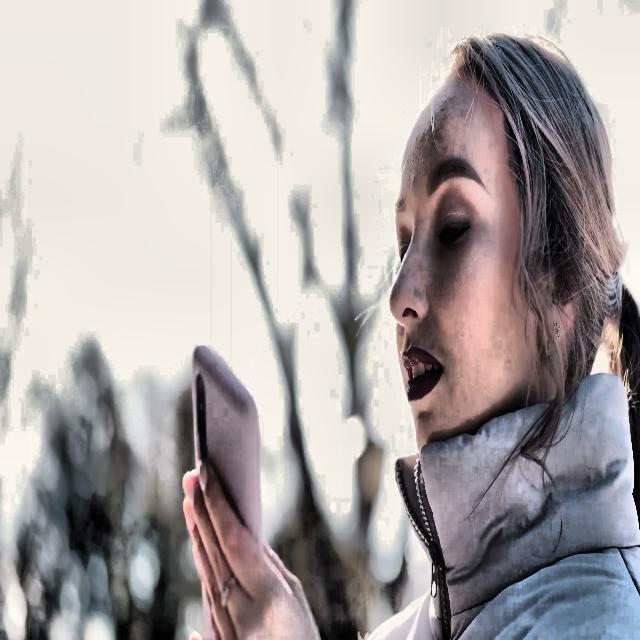Phone: (192, 343, 264, 554)
